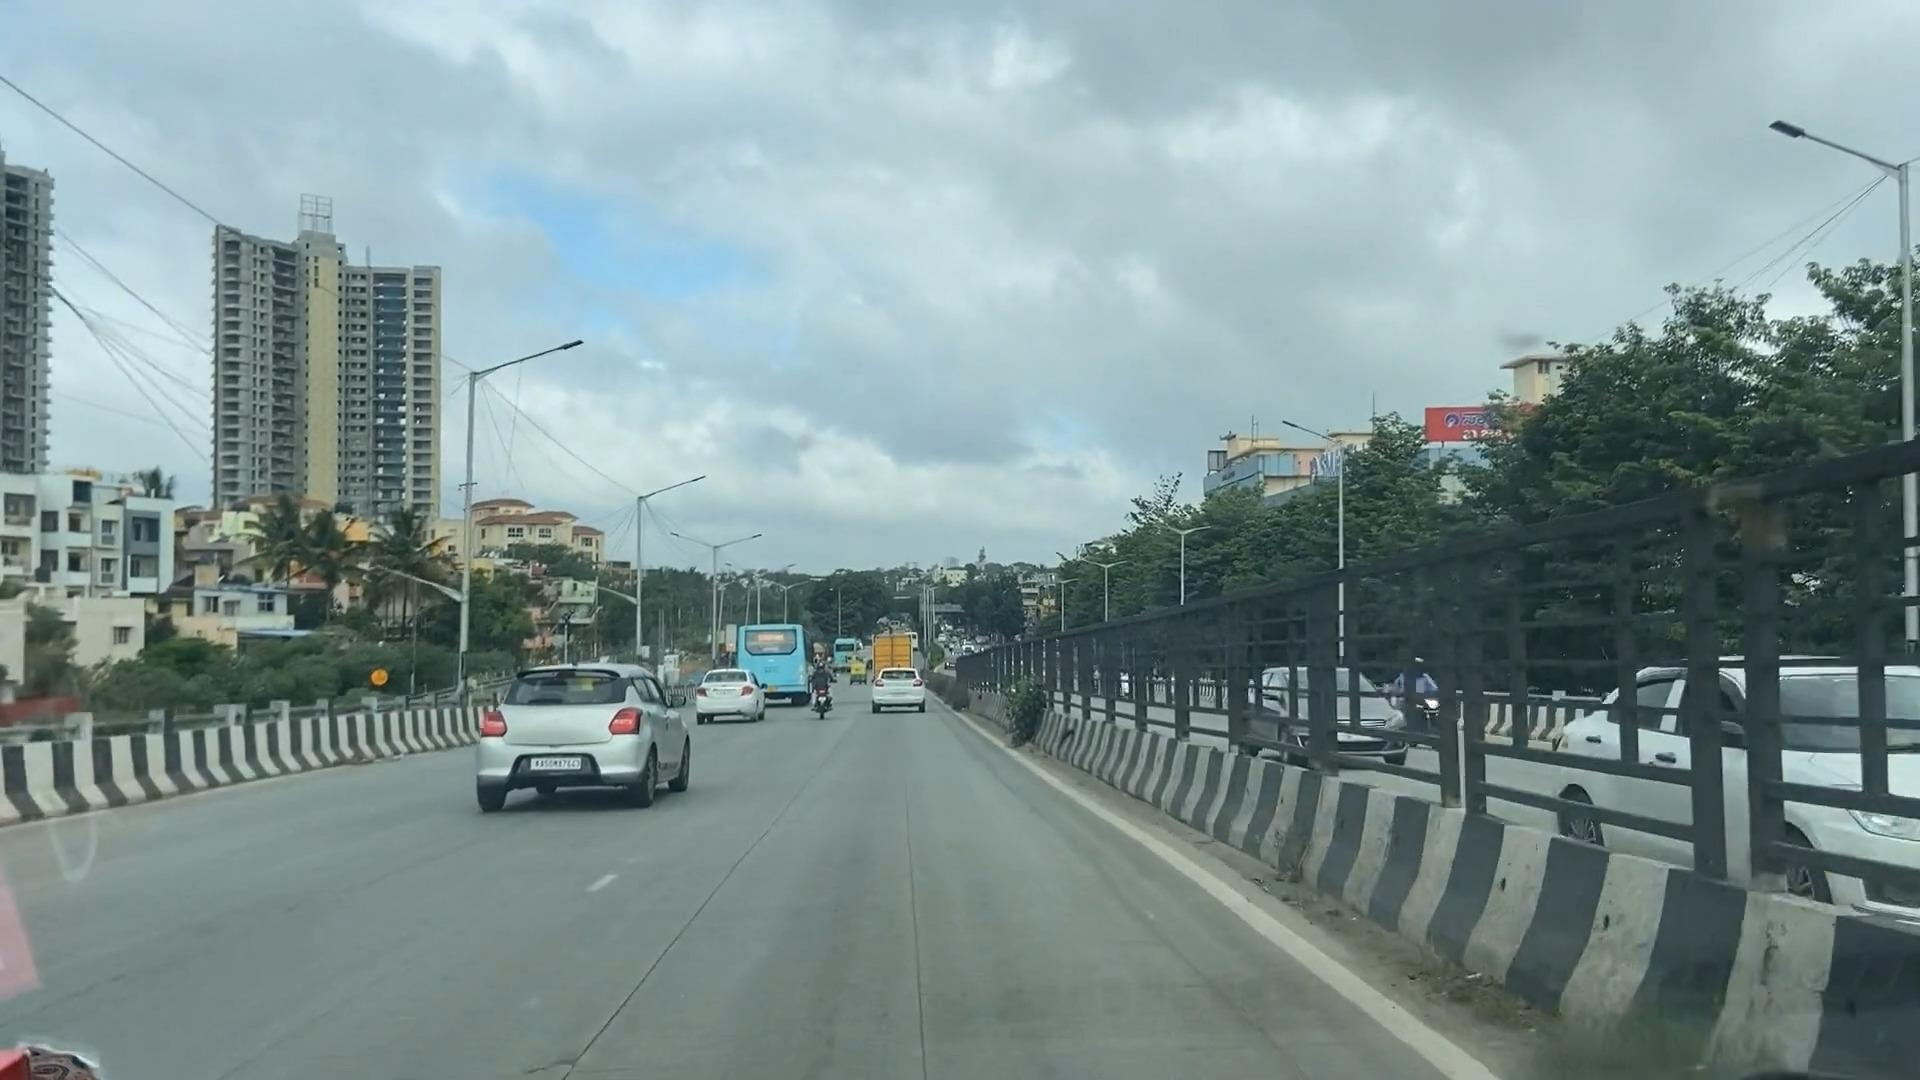HMV: (735, 595, 827, 724)
LMV: (469, 633, 691, 811), (799, 622, 862, 746), (843, 642, 927, 724), (680, 649, 769, 727)
